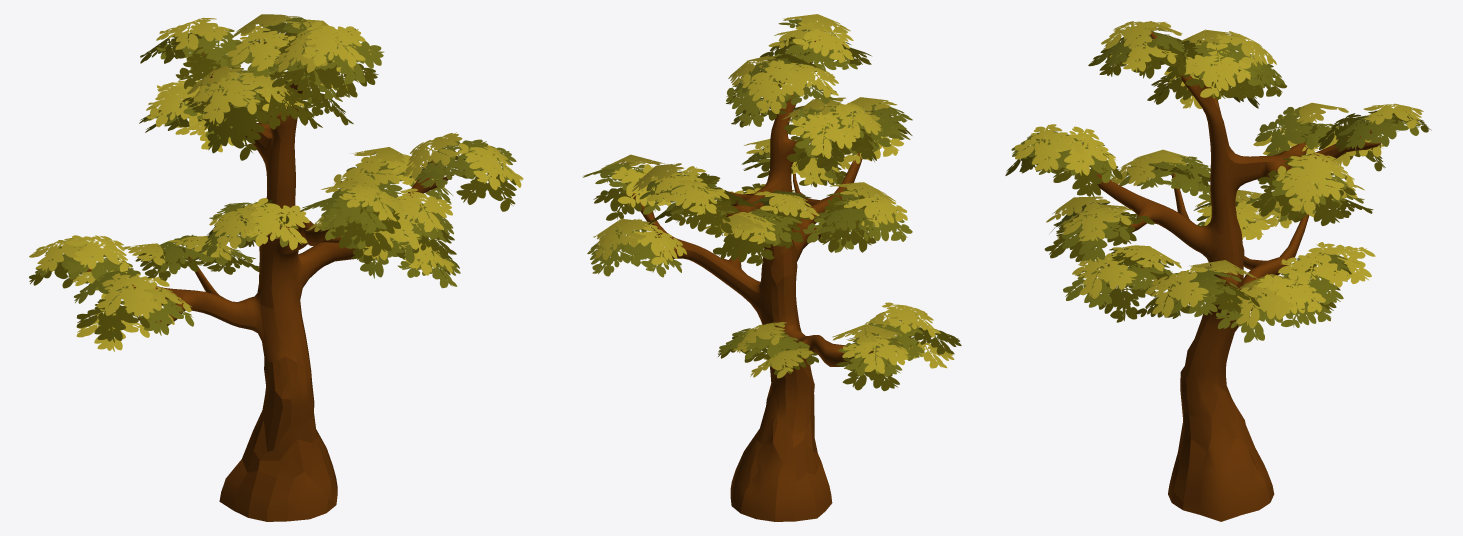
File: arvore_proj2.gltf
3 views of the same model, side by side, from view 1: azimuth 30°, elevation 25°; view 2: azimuth 150°, elevation 25°; view 3: azimuth 270°, elevation 25° (orthographic). The views are drawn at different scales.
Visible parts, largest first — view 1: folhas claras, tronco, folhas medias, folhas escuras; view 2: folhas claras, tronco, folhas medias, folhas escuras; view 3: folhas claras, tronco, folhas medias, folhas escuras.
Boxes of the visible parts, box(x1,y1,x2,y2) form: folhas claras: box(29, 14, 523, 351); tronco: box(87, 52, 456, 521); folhas medias: box(35, 17, 516, 335); folhas escuras: box(29, 29, 516, 342); folhas claras: box(593, 14, 954, 378); tronco: box(632, 36, 878, 521); folhas medias: box(582, 19, 924, 376); folhas escuras: box(593, 37, 961, 391); folhas claras: box(1015, 21, 1423, 327); tronco: box(1096, 31, 1381, 521); folhas medias: box(1011, 31, 1419, 342); folhas escuras: box(1005, 31, 1431, 322).
Size of the model in its own units: 10.74 by 11.63 by 9.84.
Materials: 4 (3 with a texture image).
